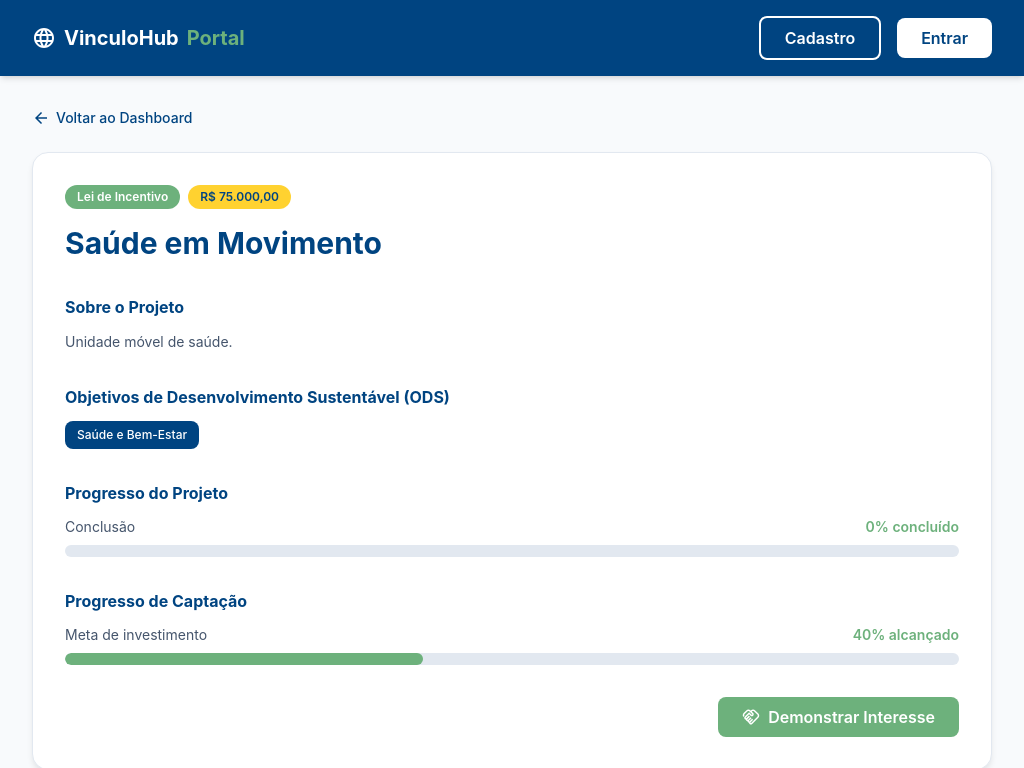
Test: ProjectDetailsPage › Demonstrar Interesse › erro 409 (vínculo duplicado) mostra toast warning e desabilita botão
What coordinates should you click on to do the following:
click the button "Demonstrar Interesse"
I would click on:
 (839, 717)
Its box is [718,697,959,737].
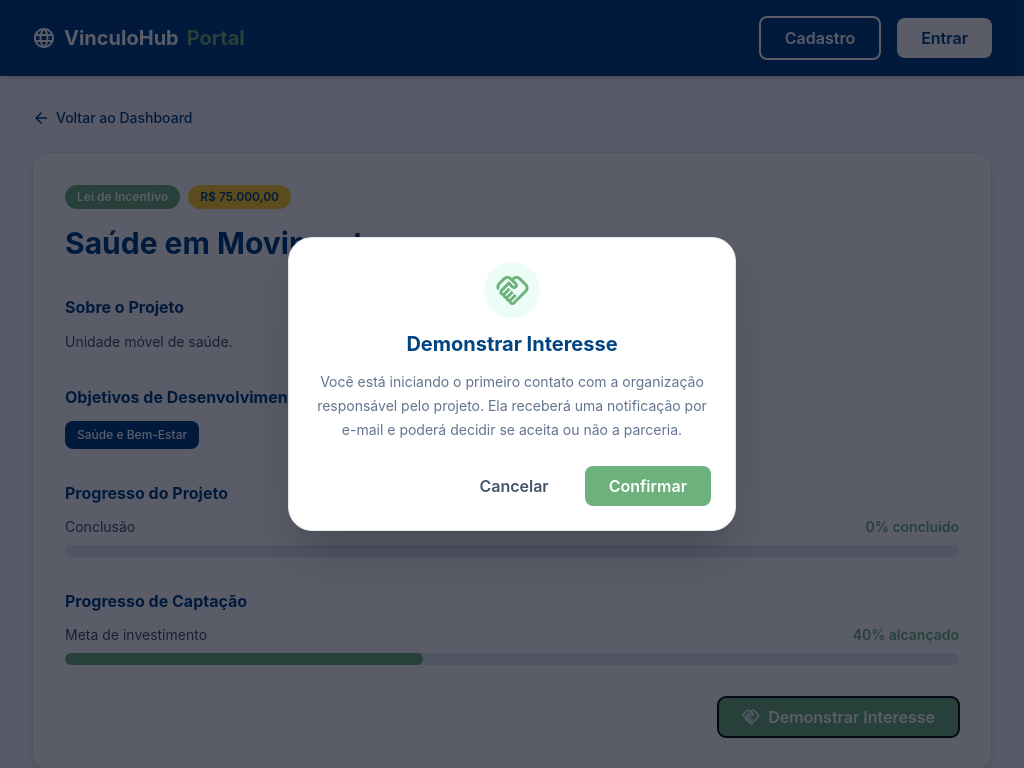
What coordinates should you click on to do the following:
click the button "Confirmar"
I would click on:
 (648, 486)
Its box is [585,466,711,506].
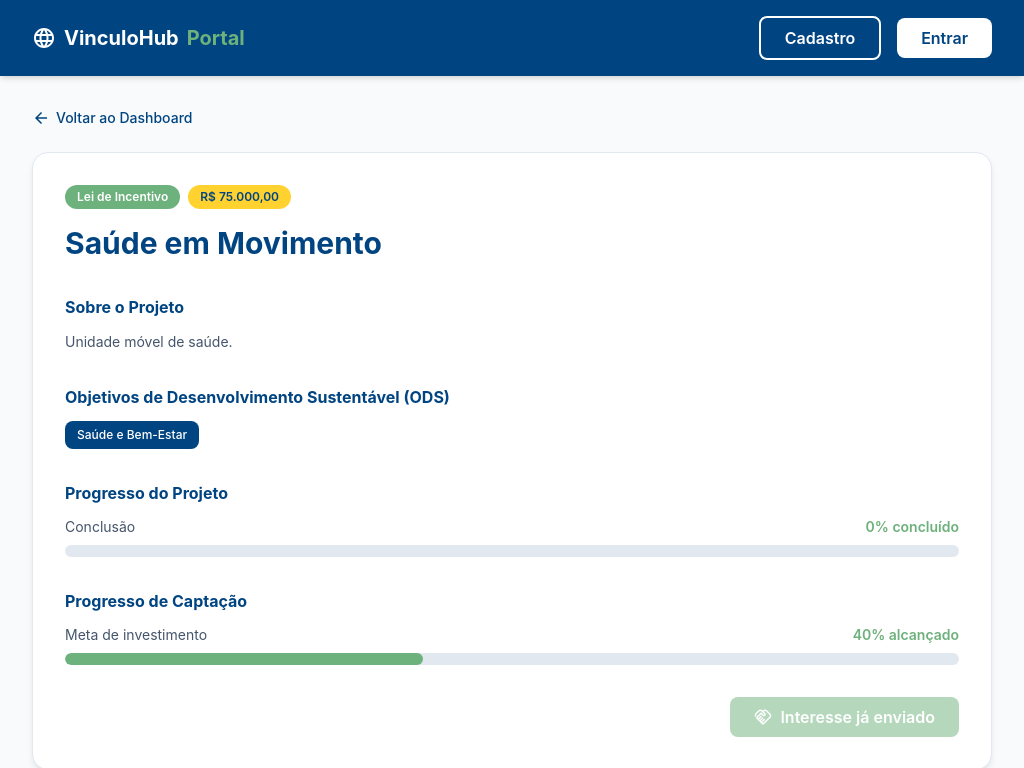
Expected: the button "Interesse já enviado" is disabled, [730,697,959,737]
